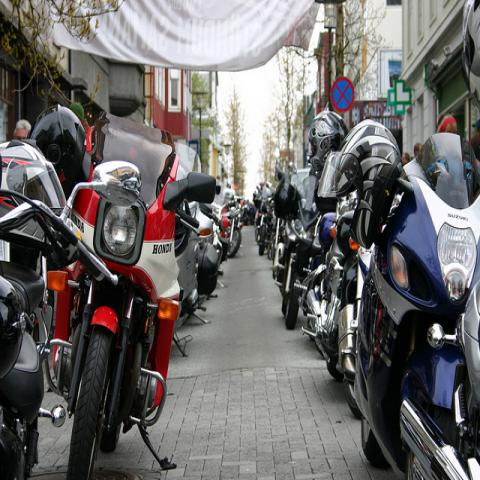motorcycle: (45, 109, 216, 479), (0, 105, 140, 472), (351, 133, 479, 479), (290, 121, 403, 417), (272, 162, 334, 329), (175, 224, 220, 312), (187, 200, 225, 275), (265, 176, 297, 258), (258, 186, 274, 258), (228, 206, 246, 258), (219, 206, 230, 262)
